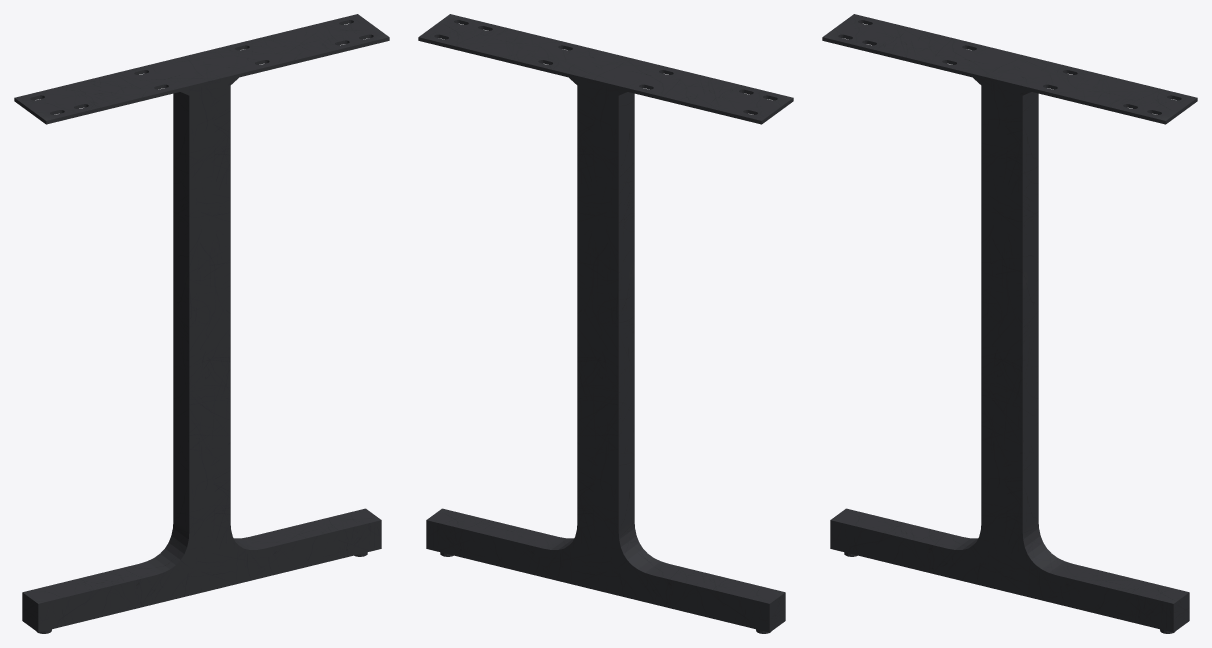
Rendered from 1leg_dark_steel.glb.
3 renders of one model, left to right at view 1: azimuth 30°, elevation 25°; view 2: azimuth 150°, elevation 25°; view 3: azimuth 330°, elevation 25°, orthographic.
Visible parts, largest first — view 1: leg original; view 2: leg original; view 3: leg original.
Boxes of the visible parts, left/top/right/bottom form: leg original: left=14, top=14, right=389, bottom=633; leg original: left=418, top=14, right=793, bottom=633; leg original: left=822, top=14, right=1197, bottom=633.
Bounding box in the file's own units: 0.5 × 0.73 × 0.08.
Materials: 1 (1 with a texture image).
